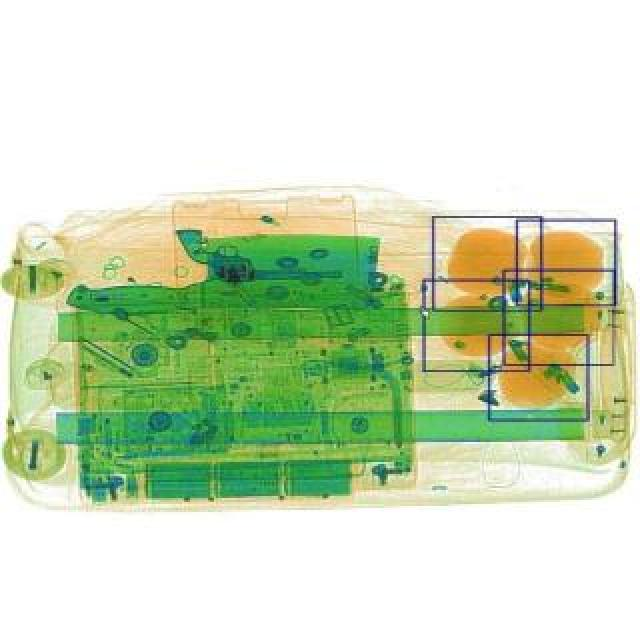gun: (174, 224, 346, 288)
knife: (68, 236, 380, 316)
